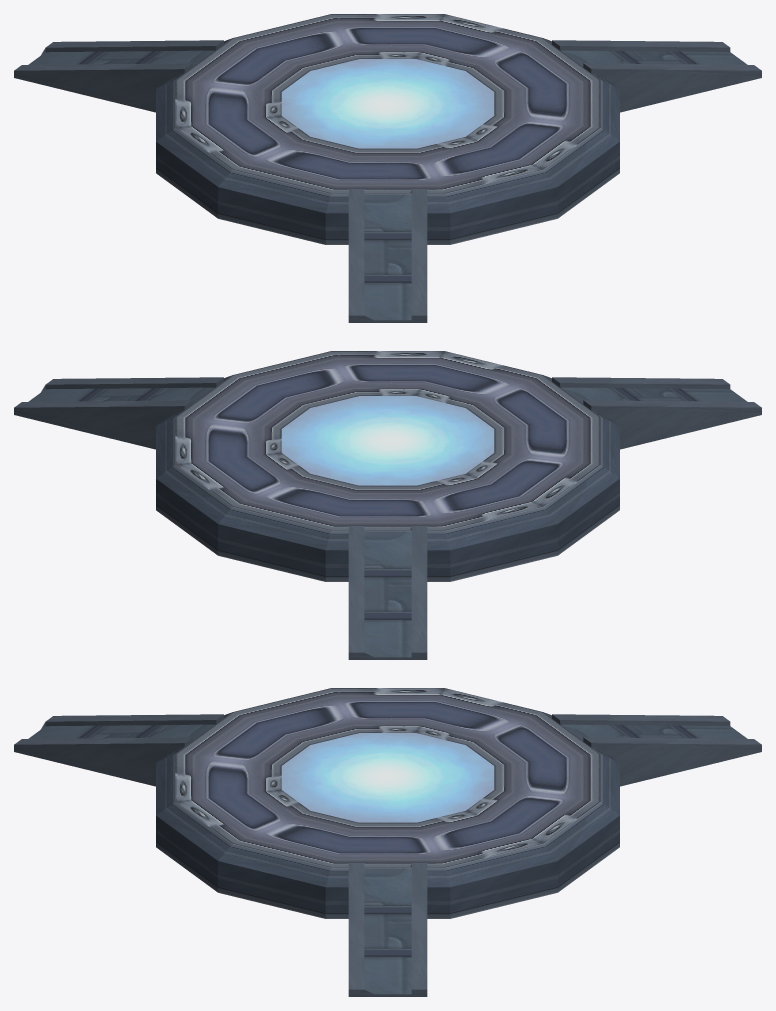
Rendered from teleporter.glb.
3 views of the same model, one above another, from view 1: azimuth 30°, elevation 25°; view 2: azimuth 150°, elevation 25°; view 3: azimuth 270°, elevation 25° (orthographic).
Parts seen in each view (by area): view 1: Object_Material_564.001; view 2: Object_Material_564.001; view 3: Object_Material_564.001.
Part boxes in pixels (box(x1,y1,x2,y2)): Object_Material_564.001: box(14, 14, 761, 322); Object_Material_564.001: box(14, 351, 761, 659); Object_Material_564.001: box(14, 688, 761, 996).
Bounding box in the file's own units: 6.41 × 0.5515 × 7.4.
Materials: 5 (5 with a texture image).
